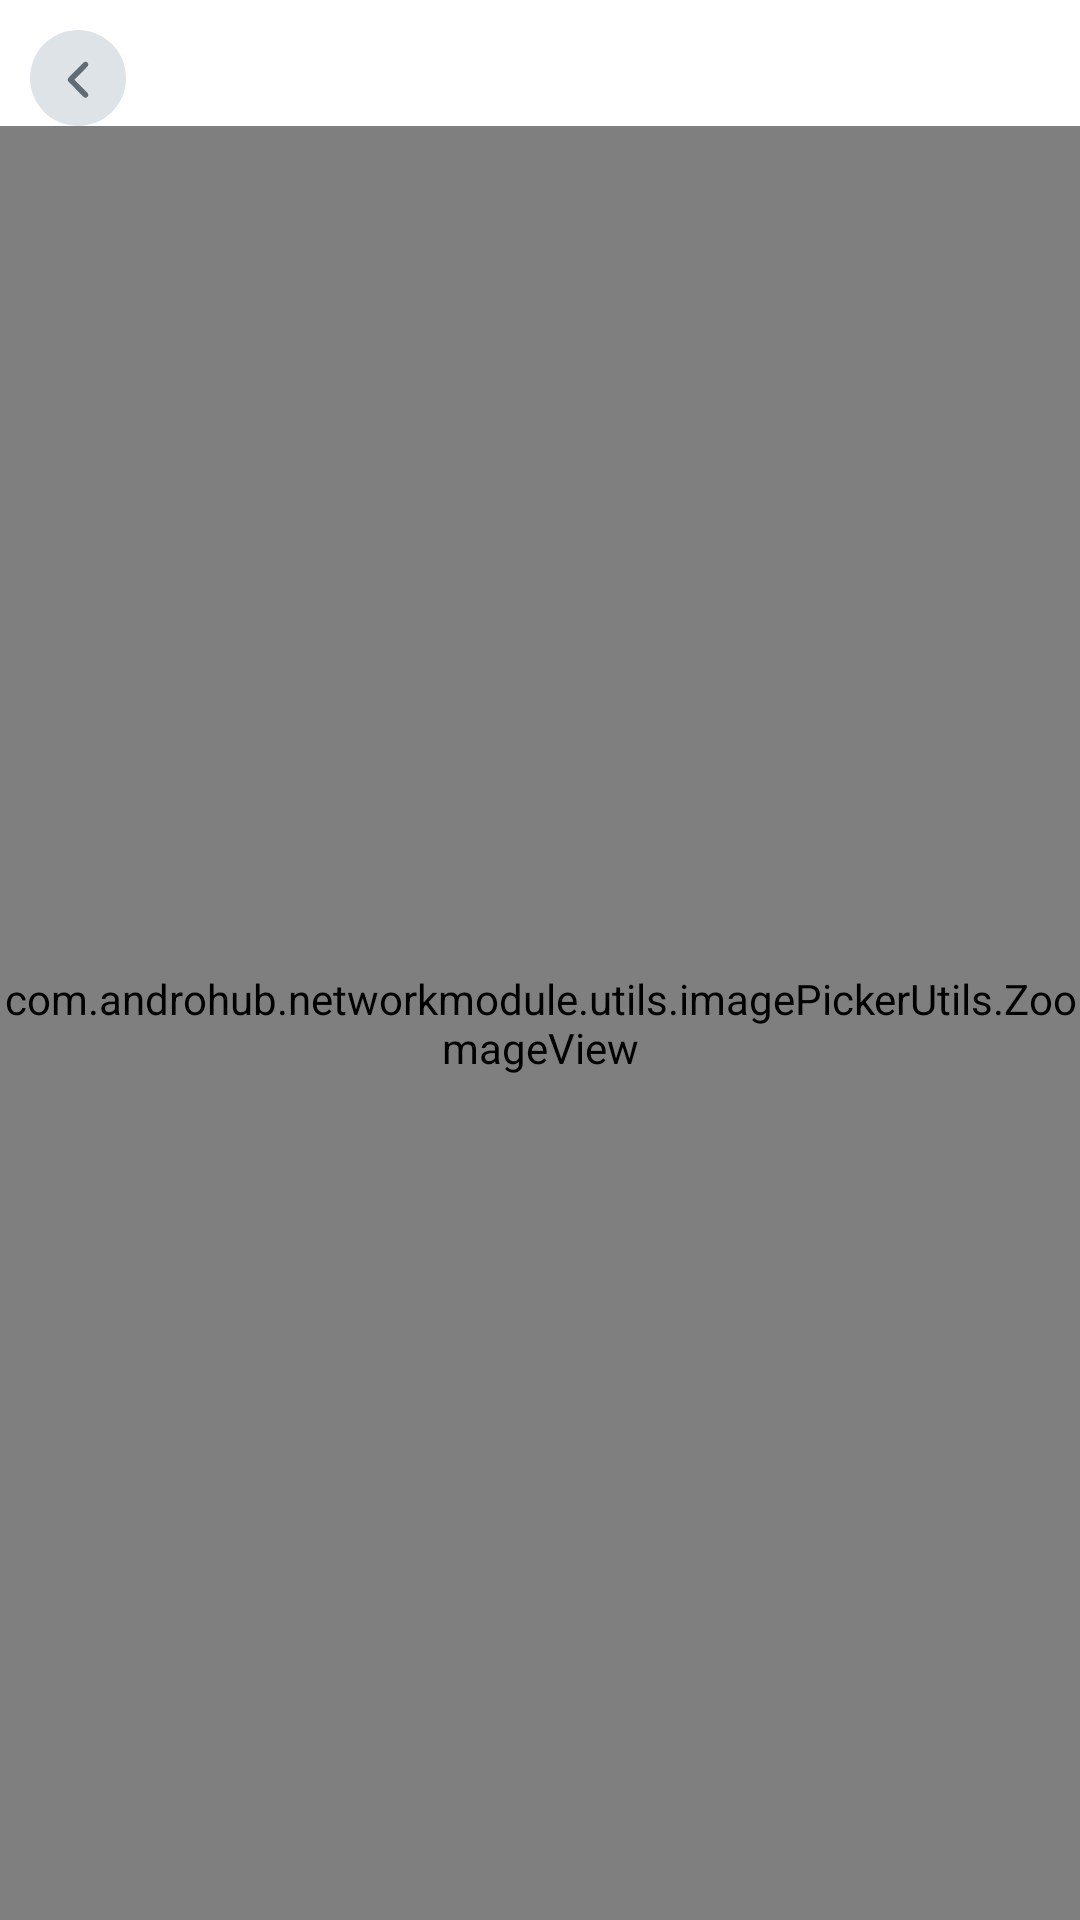

Icons on this 1080w x 1920h Android screen, each with its box as (x1, y1, x2, y2):
back: (30, 30, 126, 126)
